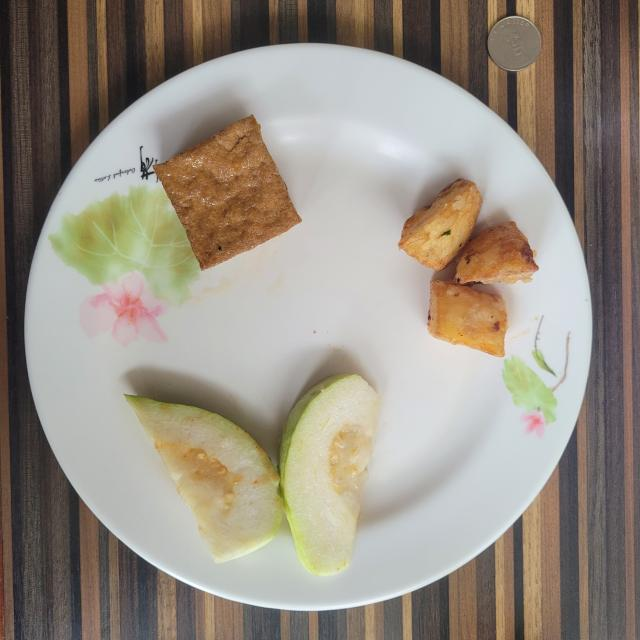coin: (488, 16, 541, 71)
egg tofu: (154, 115, 301, 270)
fried potato: (399, 179, 539, 356)
guava -sliced-: (126, 375, 380, 576)
